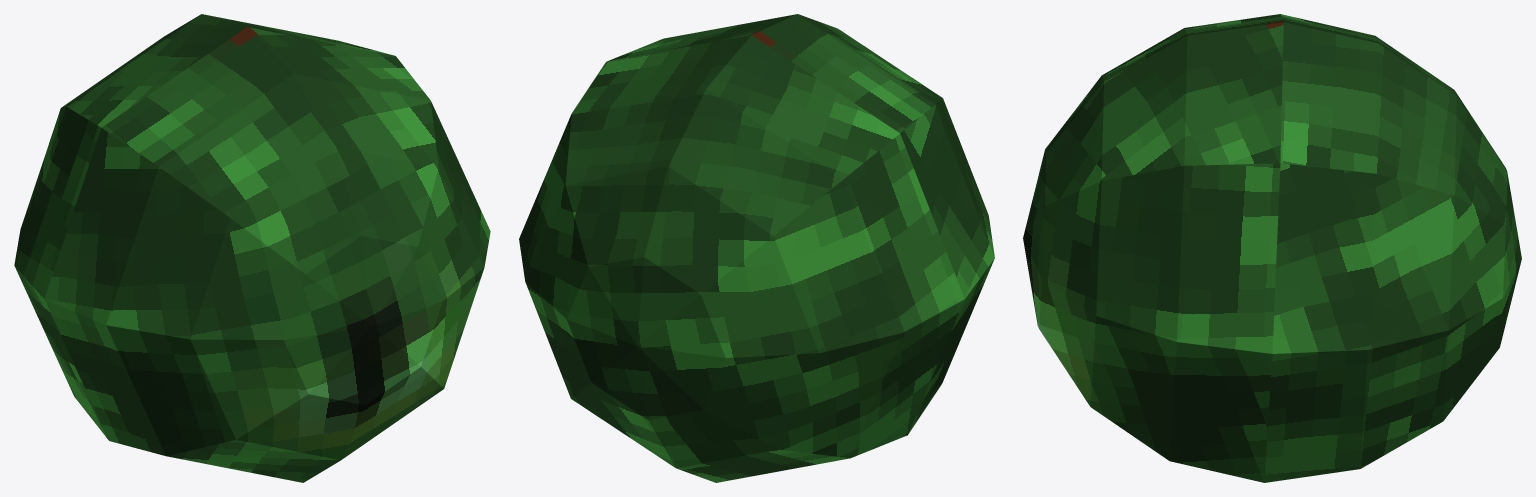
The model's file is cacodemoneye.obj.
3 renders of one model, left to right at view 1: azimuth 30°, elevation 25°; view 2: azimuth 150°, elevation 25°; view 3: azimuth 270°, elevation 25°, orthographic. The views are drawn at different scales.
Visible parts, largest first — view 1: cacodemoneye; view 2: cacodemoneye; view 3: cacodemoneye.
Part boxes in pixels (x1,y1,x2,y2): cacodemoneye: (14, 14, 490, 482); cacodemoneye: (519, 14, 994, 482); cacodemoneye: (1023, 14, 1521, 482).
Size of the model in its own units: 0.3725 by 0.3722 by 0.3722.
